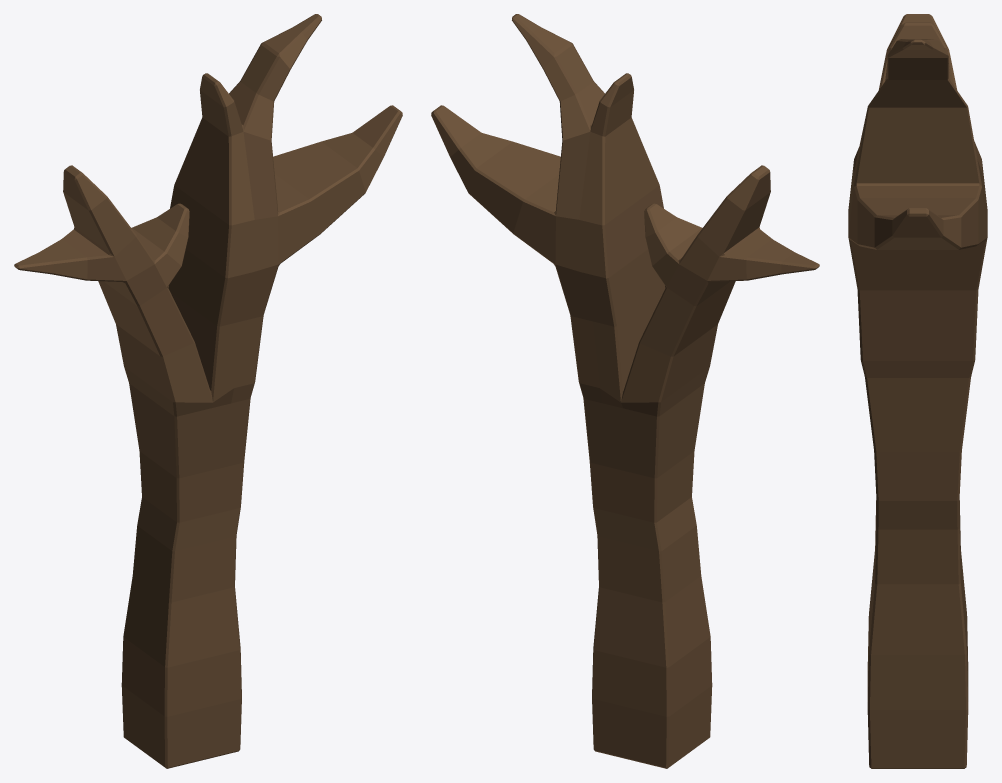
Rendered from DryBush.fbx.
3 views of the same model, side by side, from view 1: azimuth 30°, elevation 25°; view 2: azimuth 150°, elevation 25°; view 3: azimuth 270°, elevation 25° (orthographic). The views are drawn at different scales.
Visible parts, largest first — view 1: DryBush; view 2: DryBush; view 3: DryBush.
Part boxes in pixels (bbox=[...]): DryBush: bbox=[14, 14, 402, 768]; DryBush: bbox=[431, 14, 819, 768]; DryBush: bbox=[848, 14, 987, 768].
Bounding box in the file's own units: 75.67 × 131 × 21.2.
